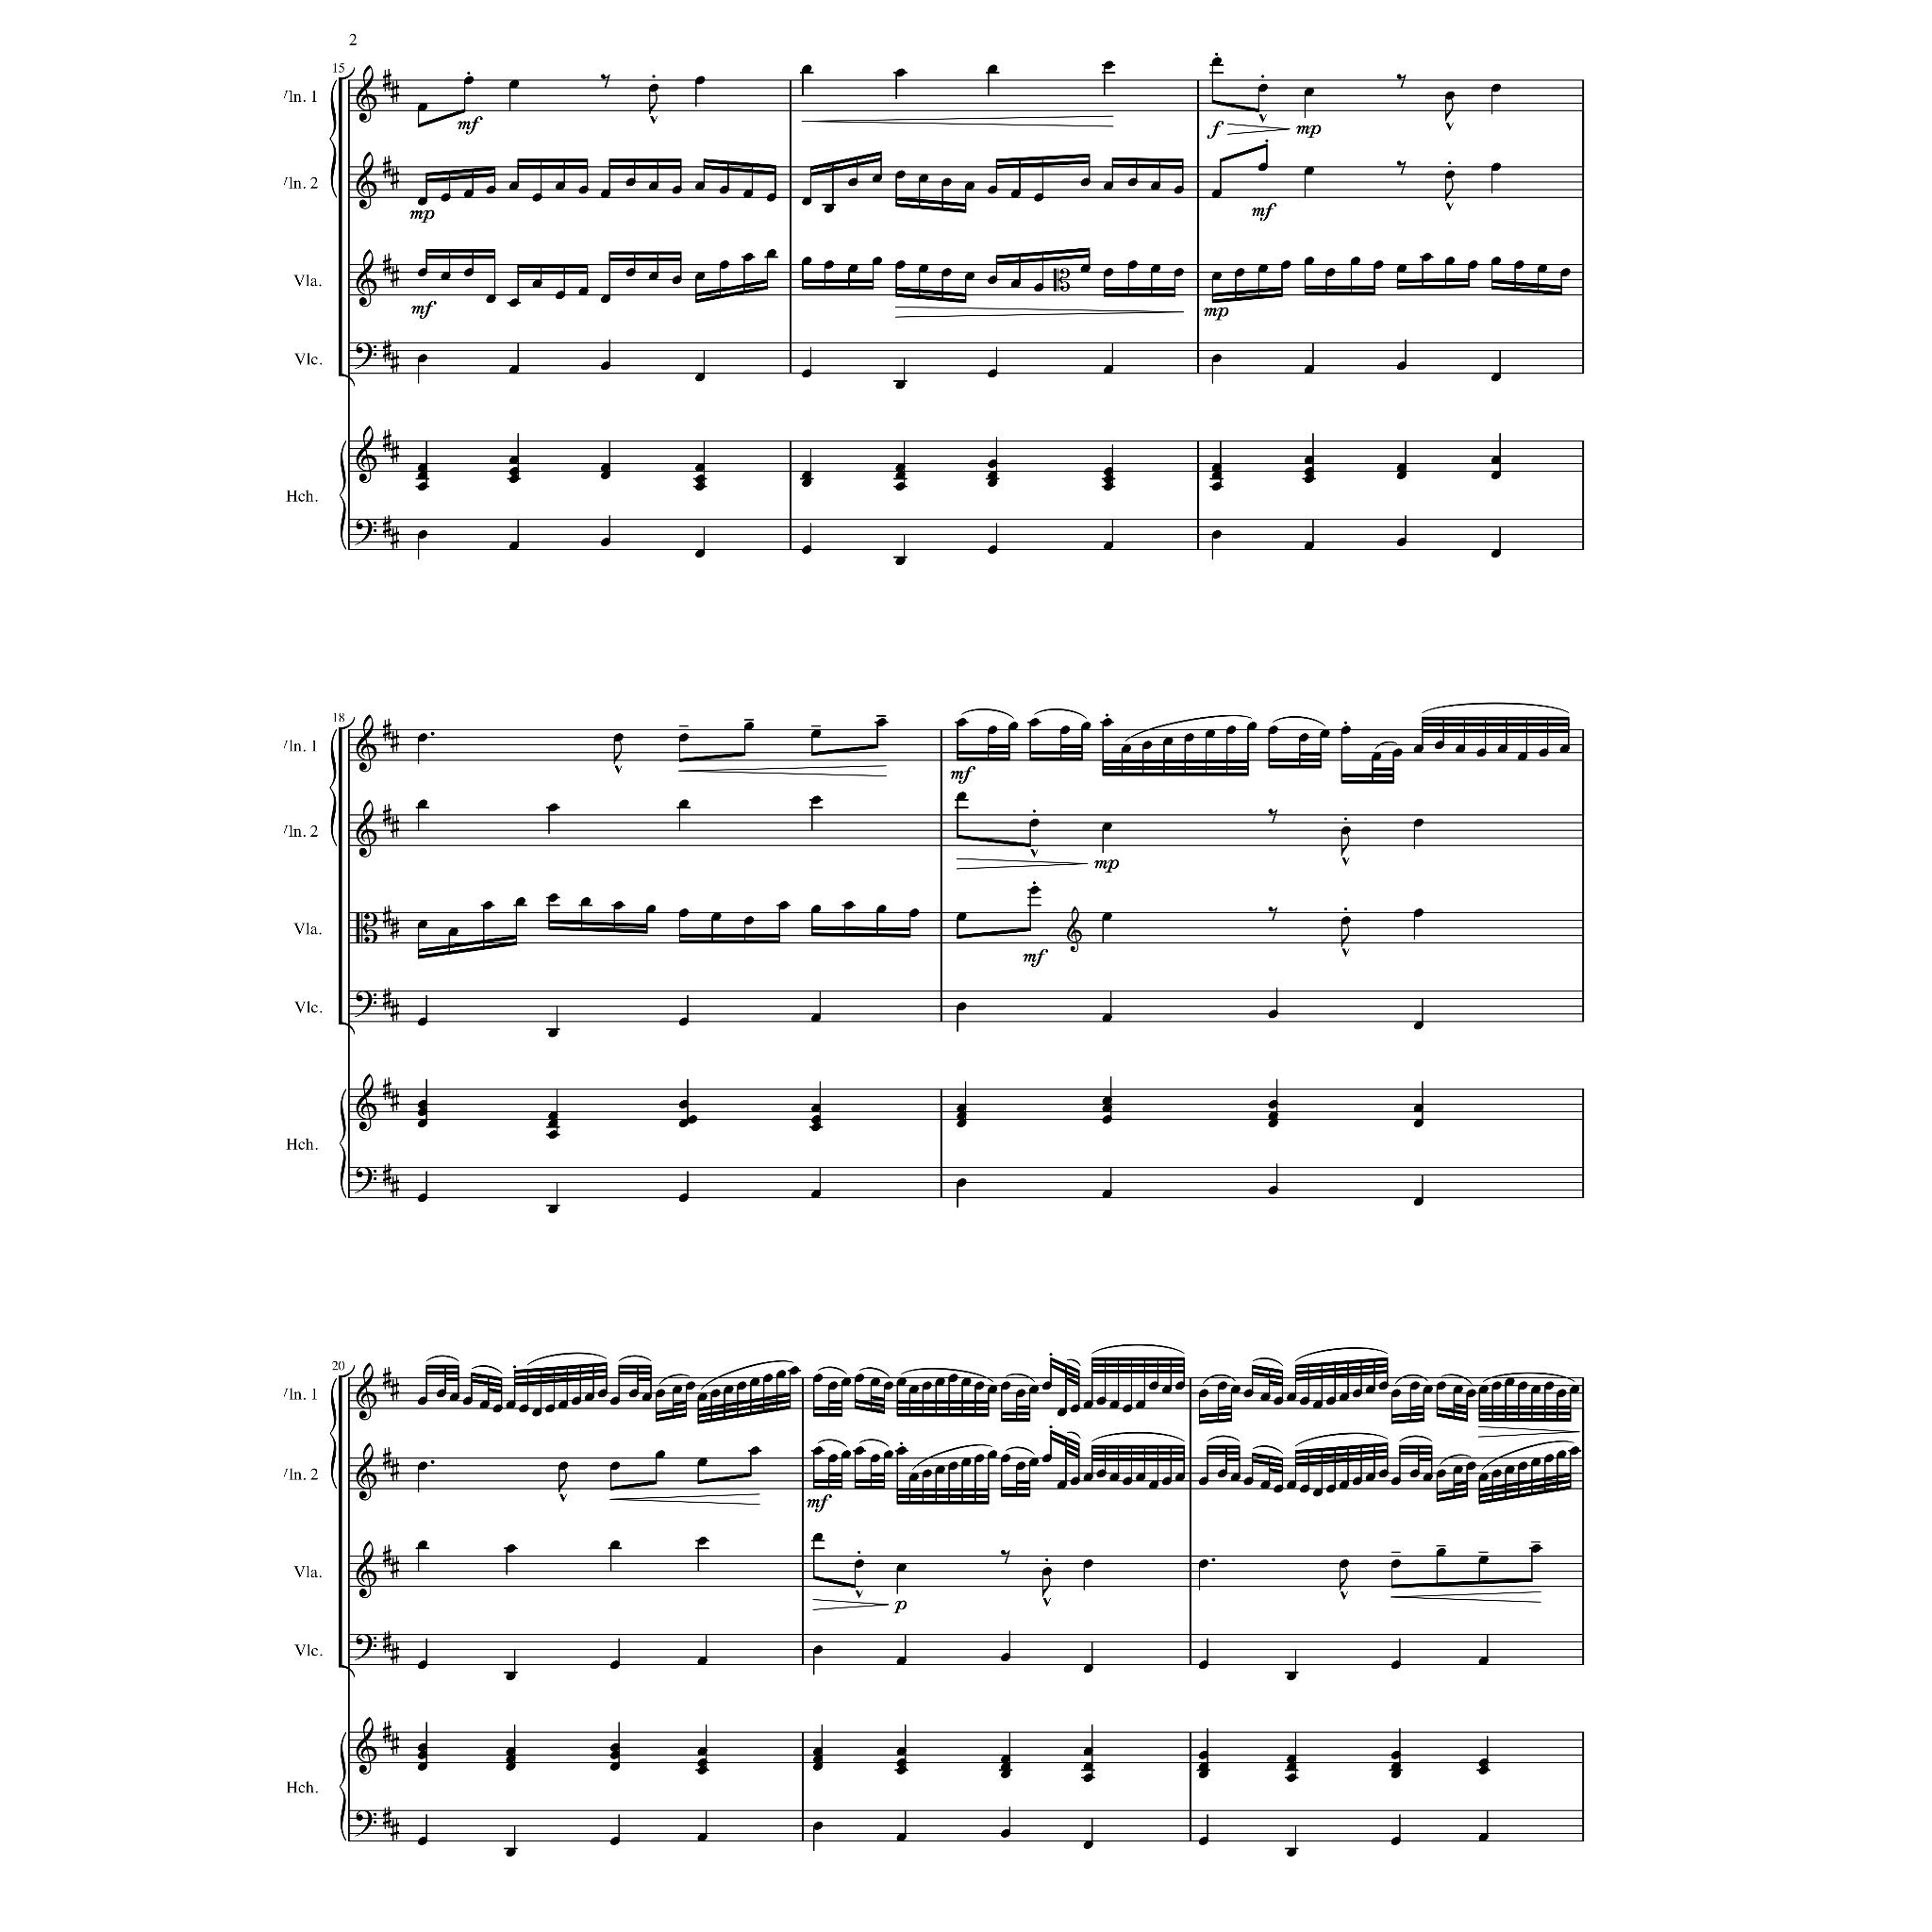brace: (329, 79, 337, 198), (329, 729, 337, 846), (329, 1377, 337, 1489), (339, 441, 346, 550), (339, 1089, 346, 1198), (339, 1732, 346, 1841)
fClef: (354, 519, 376, 545), (354, 342, 376, 369), (354, 991, 376, 1017), (354, 1167, 376, 1193), (354, 1810, 376, 1837), (354, 1634, 376, 1660)
flag8thDown: (1041, 1574, 1051, 1597), (1446, 178, 1454, 201), (1446, 98, 1454, 121), (649, 92, 657, 114), (1341, 833, 1349, 856), (1341, 924, 1349, 947), (614, 741, 622, 764), (1340, 1568, 1347, 1591), (558, 1470, 566, 1492)
gClef: (356, 425, 376, 484), (356, 249, 376, 308), (356, 64, 376, 123), (356, 151, 376, 209), (356, 714, 376, 773), (356, 799, 376, 858), (356, 1074, 376, 1132), (356, 1541, 376, 1599), (356, 1717, 376, 1775), (356, 1442, 376, 1501), (356, 1362, 376, 1421)
noteheadBlack: (1211, 272, 1223, 281), (1211, 189, 1223, 198), (1211, 57, 1223, 66), (1126, 177, 1138, 187), (1126, 260, 1138, 270), (1234, 268, 1245, 277), (1211, 463, 1223, 473), (1211, 530, 1223, 540), (987, 545, 998, 555), (1009, 189, 1021, 198), (1009, 279, 1021, 289), (964, 272, 975, 281), (964, 181, 975, 191), (987, 64, 998, 74), (987, 185, 998, 194), (987, 275, 998, 285), (1079, 177, 1091, 187), (1079, 264, 1091, 274), (1513, 260, 1524, 270), (1560, 268, 1572, 277), (1491, 83, 1502, 92), (1491, 162, 1502, 172), (1491, 257, 1502, 266), (1491, 549, 1502, 558), (1304, 541, 1315, 551), (1304, 257, 1315, 266), (1304, 166, 1315, 175), (1324, 268, 1336, 277), (1304, 87, 1315, 96), (1421, 253, 1432, 262), (1396, 264, 1407, 274), (1396, 361, 1407, 371), (1396, 463, 1407, 473), (1396, 538, 1407, 547), (555, 181, 566, 191), (555, 291, 566, 300), (508, 79, 519, 89), (508, 181, 519, 191), (508, 298, 519, 308), (508, 541, 519, 551), (577, 185, 589, 194), (625, 268, 636, 277), (625, 177, 636, 187), (577, 287, 589, 296), (600, 189, 611, 198), (600, 294, 611, 304), (600, 361, 611, 371), (600, 463, 611, 473), (600, 538, 611, 547), (462, 75, 474, 85), (462, 268, 474, 277), (462, 189, 474, 198), (485, 185, 496, 194), (485, 294, 496, 304), (440, 192, 451, 202), (440, 272, 451, 281), (823, 260, 834, 270), (847, 177, 858, 187), (847, 264, 858, 274), (872, 174, 883, 183), (872, 257, 883, 266), (894, 68, 906, 77), (894, 170, 906, 179), (894, 260, 906, 270), (894, 463, 906, 473), (894, 557, 906, 566), (694, 549, 706, 558), (694, 463, 706, 473), (694, 75, 706, 85), (694, 181, 706, 191), (694, 272, 706, 281), (1183, 733, 1194, 742), (1028, 886, 1040, 895), (1298, 733, 1309, 742), (1413, 1021, 1424, 1030), (1413, 1119, 1424, 1128), (1413, 1104, 1424, 1113), (547, 1119, 558, 1128), (547, 1111, 558, 1121), (547, 1130, 558, 1140), (547, 893, 558, 903), (547, 1028, 558, 1038), (677, 1100, 689, 1109), (677, 733, 689, 742), (677, 1017, 689, 1026), (677, 1119, 689, 1128), (1217, 1381, 1228, 1391), (1543, 1381, 1555, 1391), (1517, 1381, 1528, 1391), (1504, 1377, 1515, 1387), (1530, 1457, 1541, 1467), (1530, 1385, 1541, 1394), (1391, 1836, 1402, 1845), (1409, 1381, 1421, 1391), (1391, 1770, 1402, 1779), (1391, 1660, 1402, 1670), (1391, 1559, 1402, 1569), (1391, 1476, 1402, 1486), (1391, 1389, 1402, 1398), (1377, 1381, 1389, 1391), (1477, 1758, 1489, 1768), (1477, 1766, 1489, 1775), (1477, 1657, 1489, 1666), (1477, 1385, 1489, 1394), (1491, 1381, 1502, 1391), (1436, 1547, 1447, 1557), (1436, 1381, 1447, 1391), (1453, 1385, 1464, 1394), (628, 1389, 640, 1398), (696, 1457, 708, 1467), (696, 1392, 708, 1402), (596, 1389, 608, 1398), (583, 1392, 594, 1402), (570, 1396, 581, 1406), (696, 1536, 708, 1545), (762, 1374, 774, 1383), (775, 1370, 787, 1379), (749, 1377, 760, 1387), (696, 1747, 708, 1757), (696, 1758, 708, 1768), (696, 1766, 708, 1775), (696, 1657, 708, 1666), (736, 1381, 747, 1391), (723, 1385, 734, 1394), (709, 1389, 721, 1398), (960, 1457, 972, 1467), (960, 1377, 972, 1387), (947, 1374, 958, 1383), (987, 1450, 998, 1459), (987, 1385, 998, 1394), (974, 1381, 985, 1391), (908, 1385, 919, 1394), (934, 1377, 945, 1387), (921, 1381, 932, 1391), (1041, 1381, 1053, 1391), (1000, 1829, 1011, 1839), (1000, 1754, 1011, 1763), (1000, 1770, 1011, 1779), (1000, 1653, 1011, 1662), (1000, 1381, 1011, 1391), (1015, 1389, 1026, 1398), (840, 1450, 851, 1459), (840, 1377, 851, 1387), (1174, 185, 1183, 194), (1174, 268, 1183, 277), (1151, 181, 1160, 191), (1151, 264, 1160, 274), (941, 177, 951, 187), (941, 268, 951, 277), (1104, 541, 1113, 551), (1104, 60, 1113, 70), (1104, 181, 1113, 191), (1104, 268, 1113, 277), (1034, 192, 1043, 202), (1034, 283, 1043, 292), (1538, 264, 1547, 274), (1468, 260, 1477, 270), (1258, 83, 1268, 92), (1258, 162, 1268, 172), (1258, 264, 1268, 274), (1281, 260, 1291, 270), (1445, 91, 1455, 100), (1445, 170, 1455, 179), (1445, 257, 1455, 266), (1351, 257, 1360, 266), (1374, 260, 1383, 270), (532, 279, 541, 289), (532, 192, 541, 202), (649, 83, 658, 92), (649, 181, 658, 191), (649, 272, 658, 281), (417, 196, 426, 206), (417, 268, 426, 277), (417, 463, 426, 473), (417, 530, 426, 540), (919, 174, 928, 183), (919, 264, 928, 274), (719, 185, 728, 194), (719, 260, 728, 270), (672, 185, 681, 194), (672, 275, 681, 285), (802, 196, 811, 206), (802, 64, 811, 74), (743, 189, 753, 198), (743, 253, 753, 262), (802, 257, 811, 266), (766, 249, 775, 258), (802, 545, 811, 555), (766, 192, 775, 202), (1268, 1100, 1277, 1109), (1268, 1009, 1277, 1019), (1268, 1119, 1277, 1128), (1268, 1111, 1277, 1121), (1102, 912, 1111, 922), (1102, 1013, 1111, 1023), (1102, 1115, 1111, 1124), (1102, 1104, 1111, 1113), (687, 1115, 696, 1124), (613, 733, 623, 742), (417, 733, 426, 742), (417, 1017, 426, 1026), (417, 1119, 426, 1128), (417, 1108, 426, 1117), (417, 1100, 426, 1109), (957, 791, 966, 801), (957, 912, 966, 922), (957, 1002, 966, 1011), (957, 1119, 966, 1128), (957, 1111, 966, 1121), (957, 1104, 966, 1113), (711, 912, 721, 922), (811, 1013, 821, 1023), (811, 1123, 821, 1132), (811, 1115, 821, 1124), (811, 1104, 821, 1113), (1260, 1392, 1270, 1402), (1243, 1389, 1253, 1398), (1243, 1476, 1253, 1486), (1274, 1396, 1283, 1406), (1230, 1385, 1240, 1394), (1326, 1396, 1336, 1406), (1313, 1400, 1323, 1409), (1340, 1559, 1349, 1569), (1340, 1392, 1349, 1402), (1287, 1754, 1296, 1763), (1287, 1848, 1296, 1857), (1287, 1774, 1296, 1783), (1287, 1672, 1296, 1681), (1287, 1392, 1296, 1402), (1300, 1396, 1309, 1406), (1096, 1396, 1106, 1406), (1123, 1476, 1132, 1486), (1123, 1404, 1132, 1413), (1109, 1400, 1119, 1409), (1070, 1476, 1079, 1486), (1070, 1404, 1079, 1413), (1057, 1407, 1066, 1417), (1083, 1747, 1092, 1757), (1083, 1774, 1092, 1783), (1083, 1664, 1092, 1674), (1083, 1559, 1092, 1569), (1083, 1400, 1092, 1409), (1198, 1559, 1207, 1569), (1198, 1836, 1207, 1845), (1198, 1770, 1207, 1779), (1198, 1660, 1207, 1670), (1198, 1476, 1207, 1486), (1198, 1389, 1207, 1398), (1149, 1381, 1158, 1391), (1136, 1400, 1145, 1409), (1175, 1381, 1185, 1391), (1162, 1476, 1172, 1486), (1162, 1385, 1172, 1394), (1557, 1450, 1566, 1459), (1557, 1389, 1566, 1398), (1570, 1385, 1579, 1394), (1423, 1385, 1432, 1394), (1366, 1385, 1375, 1394), (1353, 1476, 1362, 1486), (1353, 1389, 1362, 1398), (1466, 1389, 1475, 1398), (655, 1450, 664, 1459), (655, 1389, 664, 1398), (641, 1392, 651, 1402), (685, 1381, 694, 1391), (672, 1385, 681, 1394), (609, 1660, 619, 1670), (609, 1540, 619, 1549), (609, 1396, 619, 1406), (609, 1836, 619, 1845), (813, 1747, 823, 1757), (813, 1754, 823, 1763), (813, 1645, 823, 1655), (813, 1532, 823, 1541), (813, 1374, 823, 1383), (789, 1366, 798, 1375), (417, 1396, 426, 1406), (417, 1836, 426, 1845), (417, 1660, 426, 1670), (417, 1540, 426, 1549), (532, 1407, 541, 1417), (519, 1404, 528, 1413), (558, 1400, 568, 1409), (545, 1404, 555, 1413), (479, 1400, 489, 1409), (462, 1396, 472, 1406), (449, 1392, 458, 1402), (436, 1389, 445, 1398), (506, 1672, 515, 1681), (506, 1848, 515, 1857), (506, 1747, 515, 1757), (506, 1754, 515, 1763), (506, 1400, 515, 1409), (492, 1404, 502, 1413), (1028, 1385, 1038, 1394), (1028, 1457, 1038, 1467), (828, 1381, 838, 1391), (855, 1559, 864, 1569), (855, 1374, 864, 1383), (896, 1657, 906, 1666), (870, 1377, 879, 1387), (896, 1377, 906, 1387), (883, 1381, 892, 1391), (883, 1450, 892, 1459), (896, 1747, 906, 1757), (896, 1758, 906, 1768), (896, 1766, 906, 1775), (1211, 483, 1223, 491), (1211, 472, 1223, 479), (1211, 355, 1223, 362), (987, 472, 998, 479), (987, 460, 998, 468), (987, 479, 998, 487), (987, 370, 998, 377), (1491, 374, 1502, 381), (1491, 472, 1502, 479), (1491, 457, 1502, 464), (1304, 457, 1315, 464), (1304, 468, 1315, 475), (1304, 475, 1315, 483), (1304, 366, 1315, 374), (1396, 472, 1407, 479), (508, 366, 519, 374), (508, 475, 519, 483), (508, 468, 519, 475), (508, 457, 519, 464), (600, 472, 611, 479), (823, 206, 834, 213), (894, 381, 906, 389), (894, 483, 906, 491), (894, 472, 906, 479), (694, 374, 706, 381), (694, 483, 706, 491), (694, 475, 706, 483), (1162, 738, 1174, 745), (1121, 745, 1132, 753), (1141, 741, 1153, 749), (1028, 819, 1040, 826), (1028, 719, 1040, 726), (987, 726, 998, 734), (1008, 723, 1019, 730), (1517, 753, 1528, 760), (1538, 749, 1549, 757), (1558, 745, 1570, 753), (1455, 745, 1466, 753), (1475, 749, 1487, 757), (1434, 741, 1445, 749), (1319, 730, 1330, 738), (1413, 745, 1424, 753), (1413, 819, 1424, 826), (1413, 909, 1424, 917), (1413, 1198, 1424, 1206), (547, 1206, 558, 1213), (447, 928, 458, 936), (547, 804, 558, 811), (677, 800, 689, 808), (677, 909, 689, 917), (677, 1194, 689, 1202), (579, 898, 591, 906), (645, 906, 657, 913), (875, 719, 887, 726), (875, 906, 887, 913), (777, 902, 789, 909), (1217, 1470, 1228, 1477), (1543, 1455, 1555, 1462), (1517, 1462, 1528, 1470), (1504, 1466, 1515, 1474), (1530, 1545, 1541, 1553), (1391, 1751, 1402, 1758), (1409, 1470, 1421, 1477), (1391, 1762, 1402, 1770), (1377, 1470, 1389, 1477), (1477, 1834, 1489, 1841), (1477, 1557, 1489, 1564), (1477, 1474, 1489, 1481), (1491, 1470, 1502, 1477), (1436, 1470, 1447, 1477), (1453, 1466, 1464, 1474), (749, 1447, 760, 1455), (696, 1834, 708, 1841), (947, 1462, 958, 1470), (974, 1455, 985, 1462), (934, 1466, 945, 1474), (921, 1470, 932, 1477), (1015, 1462, 1026, 1470), (1041, 1568, 1053, 1575), (1041, 1455, 1053, 1462), (1000, 1455, 1011, 1462), (1000, 1762, 1011, 1770), (908, 1474, 919, 1481), (1104, 366, 1113, 374), (1104, 483, 1113, 491), (1104, 475, 1113, 483), (1104, 468, 1113, 475), (417, 104, 426, 111), (417, 355, 426, 362), (417, 483, 426, 491), (417, 472, 426, 479), (802, 472, 811, 479), (802, 479, 811, 487), (802, 370, 811, 377), (1206, 730, 1215, 738), (1268, 1187, 1277, 1194), (1226, 726, 1236, 734), (1247, 723, 1257, 730), (1268, 726, 1277, 734), (1102, 1096, 1111, 1104), (1102, 719, 1111, 726), (1102, 823, 1111, 830), (1102, 1191, 1111, 1198), (1060, 726, 1070, 734), (1081, 723, 1091, 730), (1498, 745, 1507, 753), (1372, 753, 1381, 760), (1341, 726, 1351, 734), (1341, 826, 1351, 834), (1341, 917, 1351, 924), (1392, 749, 1402, 757), (483, 902, 492, 909), (515, 898, 525, 906), (613, 902, 623, 909), (417, 800, 426, 808), (417, 921, 426, 928), (417, 1194, 426, 1202), (909, 909, 919, 917), (957, 719, 966, 726), (957, 1179, 966, 1187), (843, 902, 853, 909), (811, 730, 821, 738), (811, 796, 821, 804), (811, 906, 821, 913), (743, 917, 753, 924), (743, 723, 753, 730), (811, 1191, 821, 1198), (1274, 1485, 1283, 1492), (1260, 1481, 1270, 1489), (1230, 1474, 1240, 1481), (1326, 1485, 1336, 1492), (1313, 1489, 1323, 1496), (1340, 1481, 1349, 1489), (1287, 1762, 1296, 1770), (1287, 1481, 1296, 1489), (1300, 1485, 1309, 1492), (1096, 1470, 1106, 1477), (1109, 1474, 1119, 1481), (1057, 1481, 1066, 1489), (1083, 1841, 1092, 1849), (1083, 1762, 1092, 1770), (1083, 1474, 1092, 1481), (1198, 1751, 1207, 1758), (1198, 1762, 1207, 1770), (1149, 1481, 1158, 1489), (1136, 1474, 1145, 1481), (1175, 1474, 1185, 1481), (1570, 1447, 1579, 1455), (1423, 1474, 1432, 1481), (1366, 1474, 1375, 1481), (1466, 1462, 1475, 1470), (609, 1462, 619, 1470), (609, 1762, 619, 1770), (609, 1743, 619, 1751), (609, 1751, 619, 1758), (813, 1823, 823, 1830), (813, 1762, 823, 1770), (813, 1447, 823, 1455), (417, 1743, 426, 1751), (417, 1751, 426, 1758), (417, 1762, 426, 1770), (417, 1462, 426, 1470), (558, 1462, 568, 1470), (506, 1762, 515, 1770), (506, 1545, 515, 1553), (828, 1455, 838, 1462), (855, 1447, 864, 1455), (870, 1455, 879, 1462), (896, 1564, 906, 1572), (896, 1447, 906, 1455), (896, 1834, 906, 1841)
rest8th: (1397, 74, 1407, 89), (1397, 160, 1407, 175), (600, 74, 609, 89), (1268, 808, 1277, 824), (1268, 907, 1277, 922), (1001, 1549, 1010, 1564)
